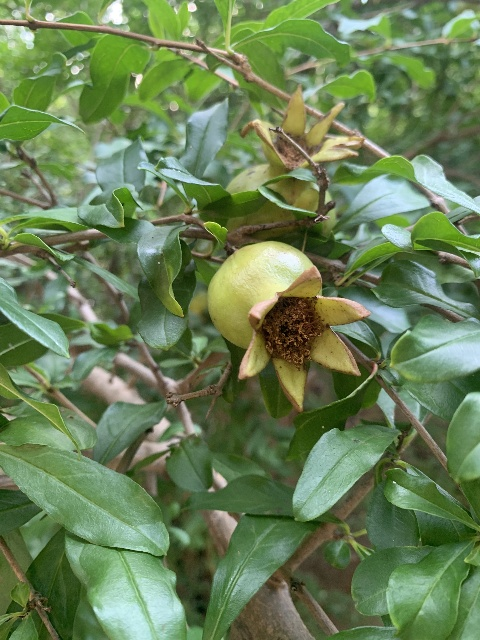mid-growth: (206, 239, 370, 413), (226, 82, 362, 241)
